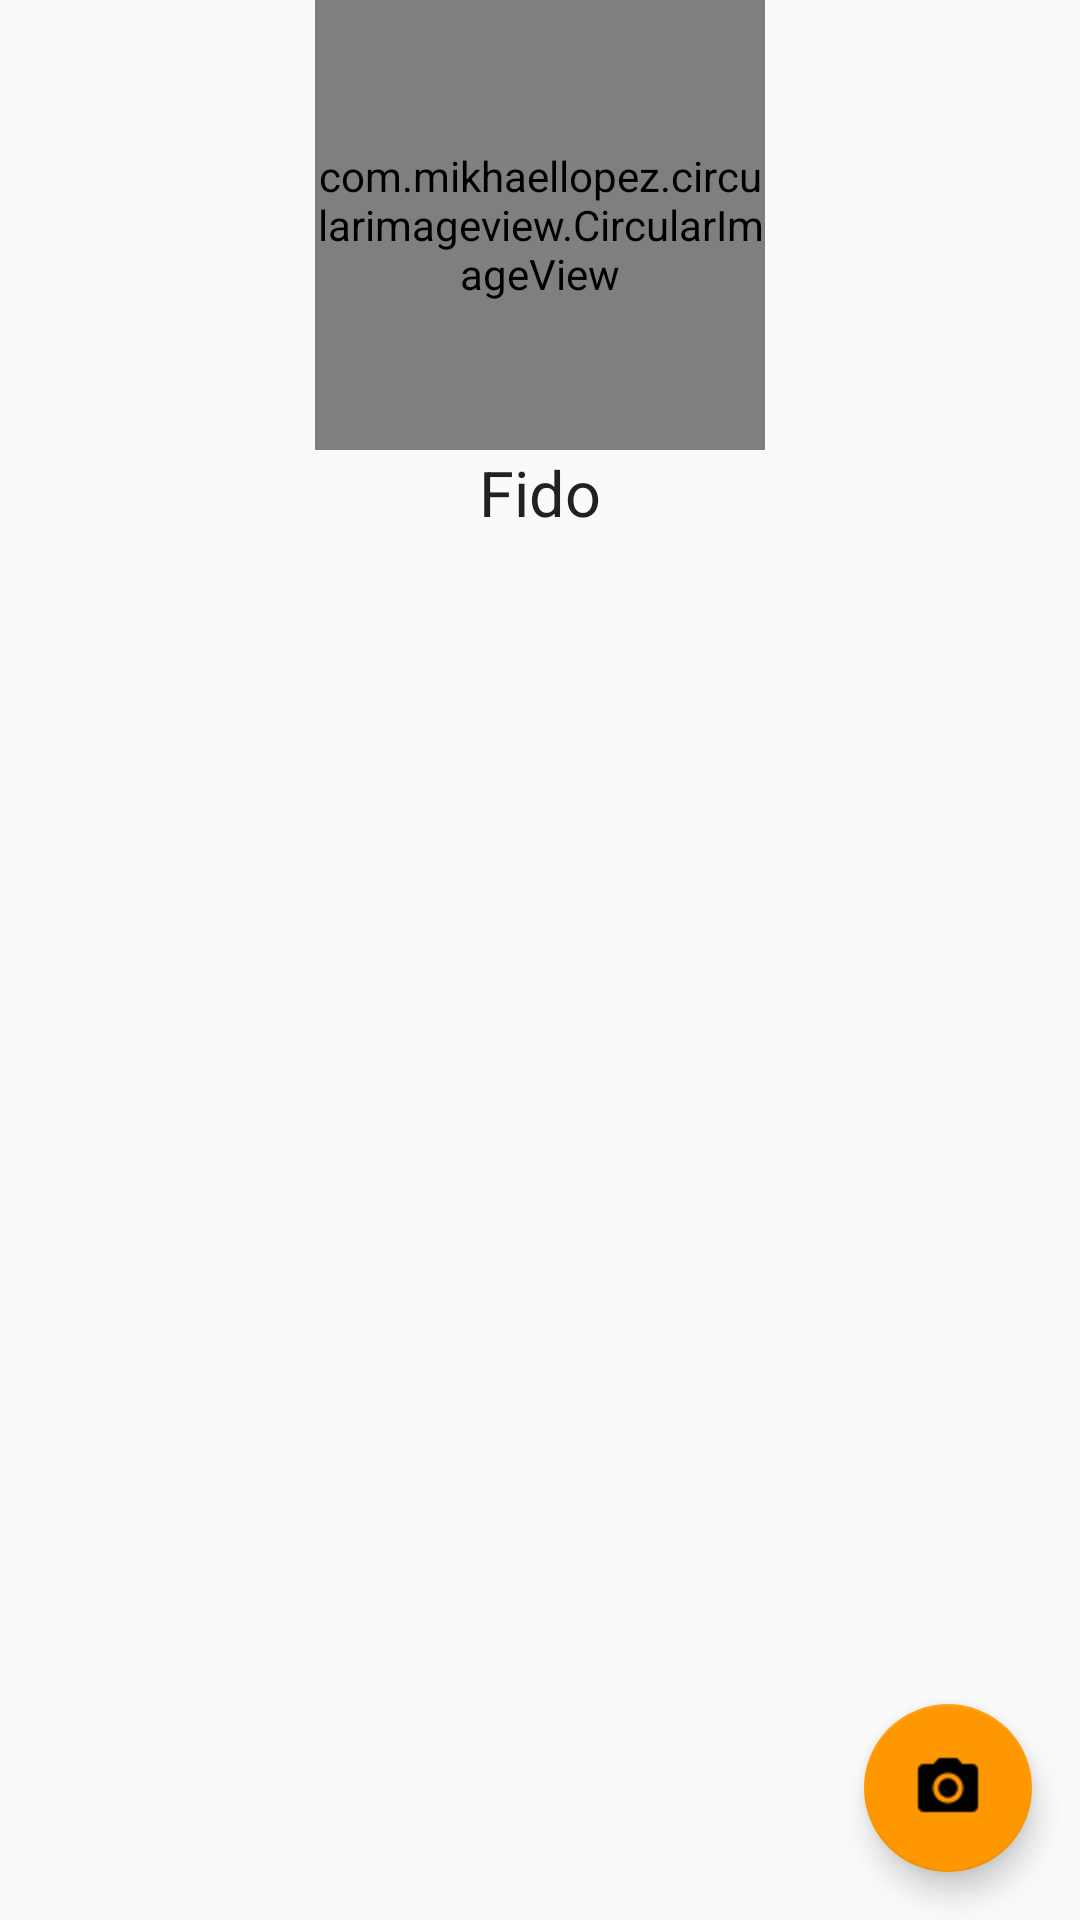

Where to tap for icons on this 1080*1920 app screen, as (x=x, y=y):
photo camera: (x=948, y=1788)
